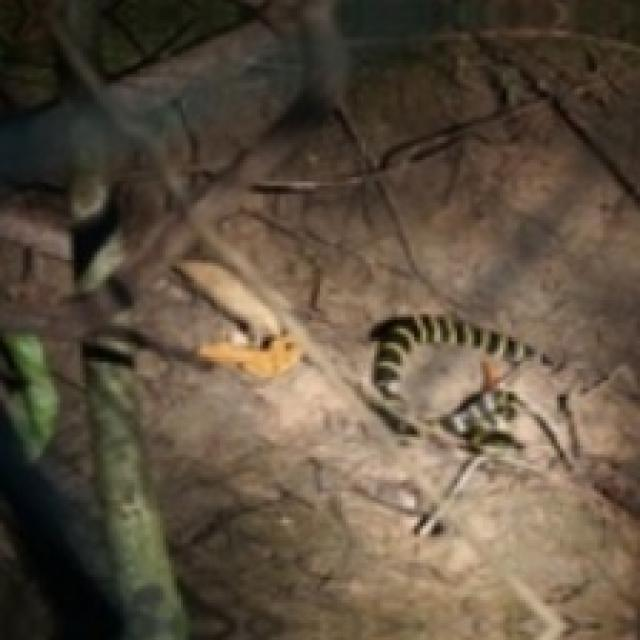mangrove cat snake: (371, 314, 571, 463)
